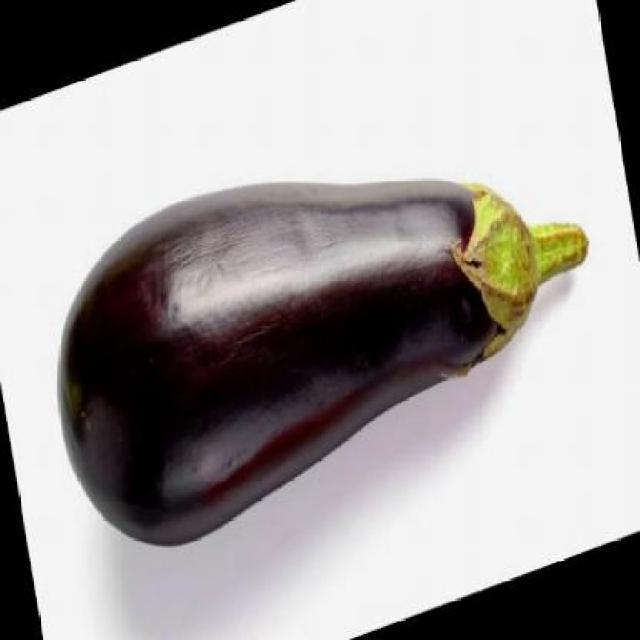eggplant: (53, 172, 598, 554)
